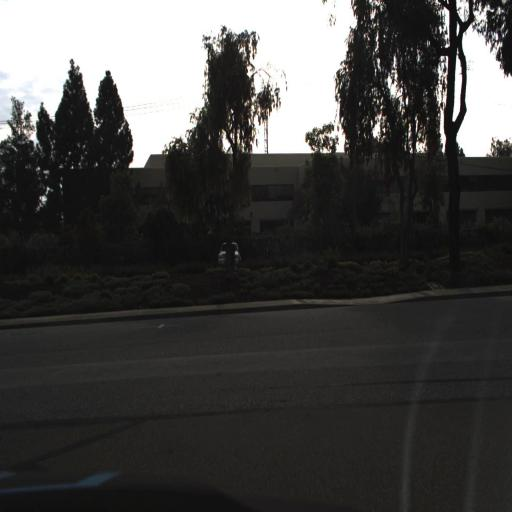car: (216, 238, 241, 267)
